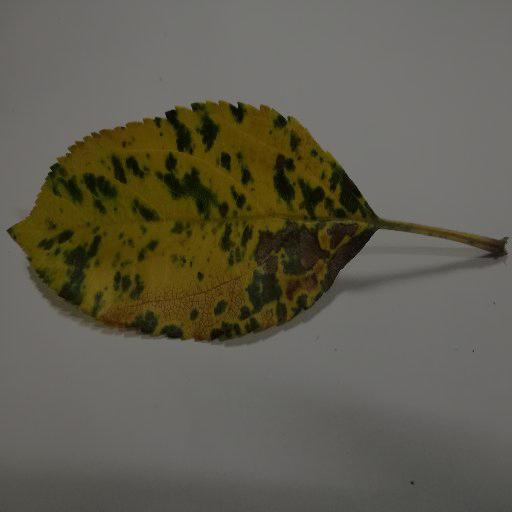Brown_Spot: (228, 221, 369, 340)
